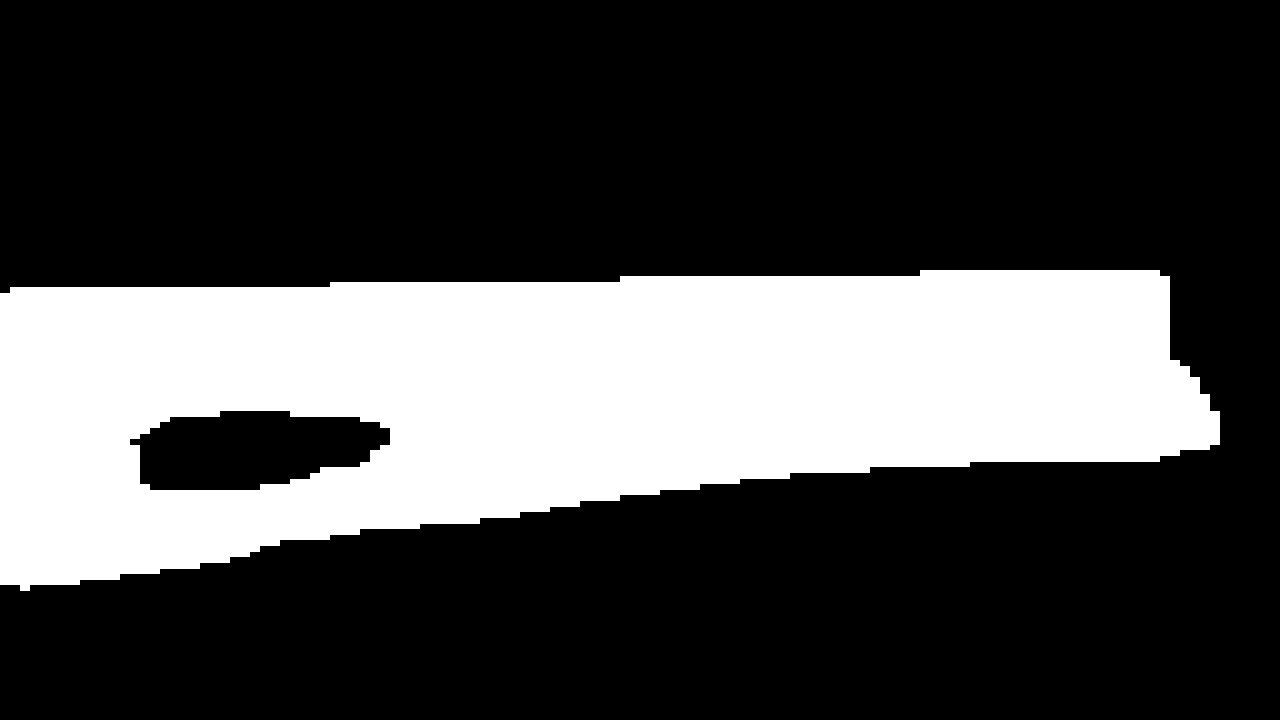Turbine: (2, 230, 1216, 607)
